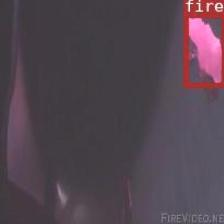fire: (182, 12, 224, 86)
